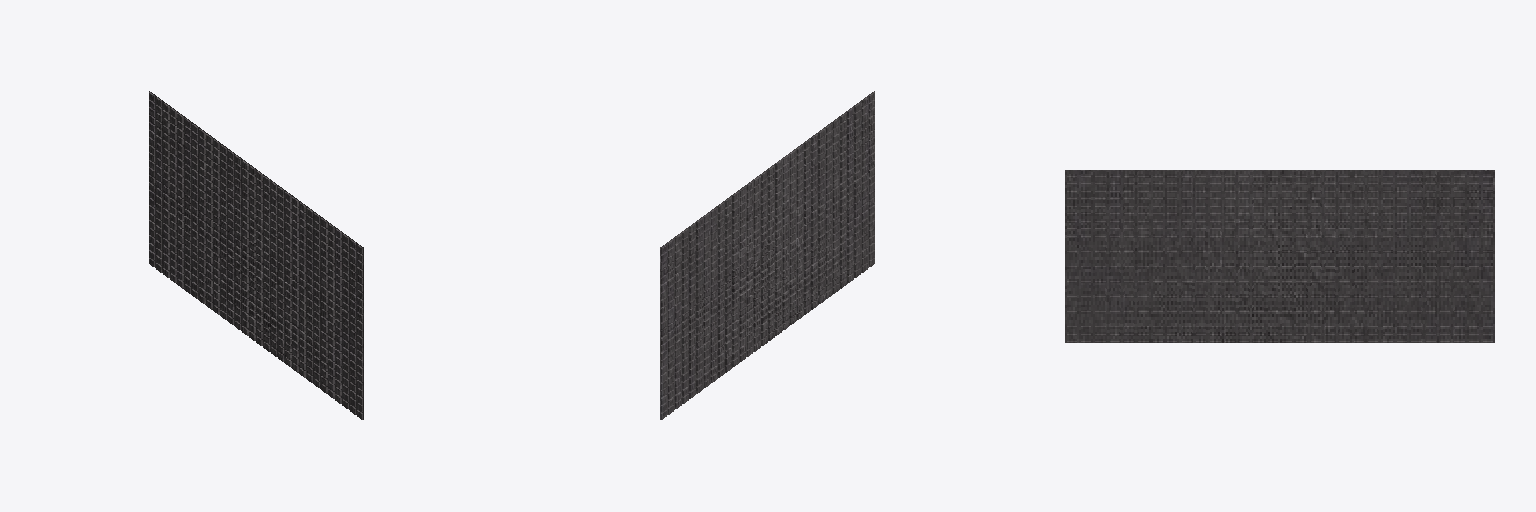
3 views of the same model, side by side, from view 1: azimuth 30°, elevation 25°; view 2: azimuth 150°, elevation 25°; view 3: azimuth 270°, elevation 25° (orthographic).
Visible parts, largest first — view 1: ArmFBXASC195FBXASC161rioFBXASC032SomFBXASC046001; view 2: ArmFBXASC195FBXASC161rioFBXASC032SomFBXASC046001; view 3: ArmFBXASC195FBXASC161rioFBXASC032SomFBXASC046001.
Boxes of the visible parts, box(x1,y1,x2,y2) form: ArmFBXASC195FBXASC161rioFBXASC032SomFBXASC046001: box(149, 91, 363, 419); ArmFBXASC195FBXASC161rioFBXASC032SomFBXASC046001: box(660, 91, 874, 419); ArmFBXASC195FBXASC161rioFBXASC032SomFBXASC046001: box(1065, 170, 1494, 342).
Size of the model in its own units: 1.54 by 167 by 376.
Materials: 1 (1 with a texture image).